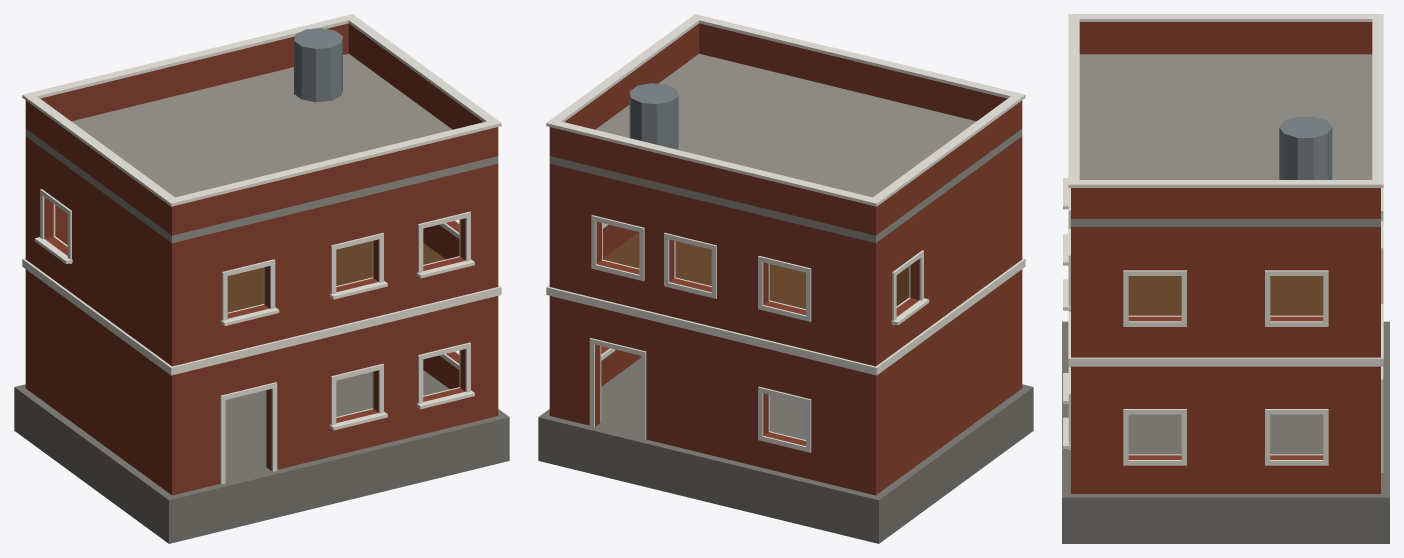
Rendered from house_tall_brick.glb.
3 renders of one model, left to right at view 1: azimuth 30°, elevation 25°; view 2: azimuth 150°, elevation 25°; view 3: azimuth 270°, elevation 25°, orthographic. The views are drawn at different scales.
Parts seen in each view (by area): view 1: house_tall_brick; view 2: house_tall_brick; view 3: house_tall_brick.
Boxes of the visible parts, x1,y1,x2,y2 form: house_tall_brick: [14, 14, 509, 543]; house_tall_brick: [538, 14, 1033, 543]; house_tall_brick: [1062, 14, 1389, 543].
Size of the model in its own units: 9.4 by 9.4 by 7.4.
